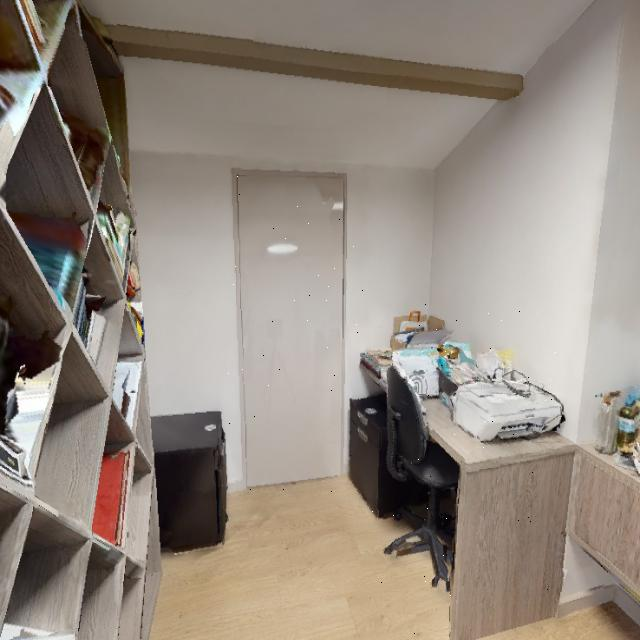chair: (361, 351, 457, 591)
door: (228, 166, 367, 495)
table: (363, 299, 570, 636)
